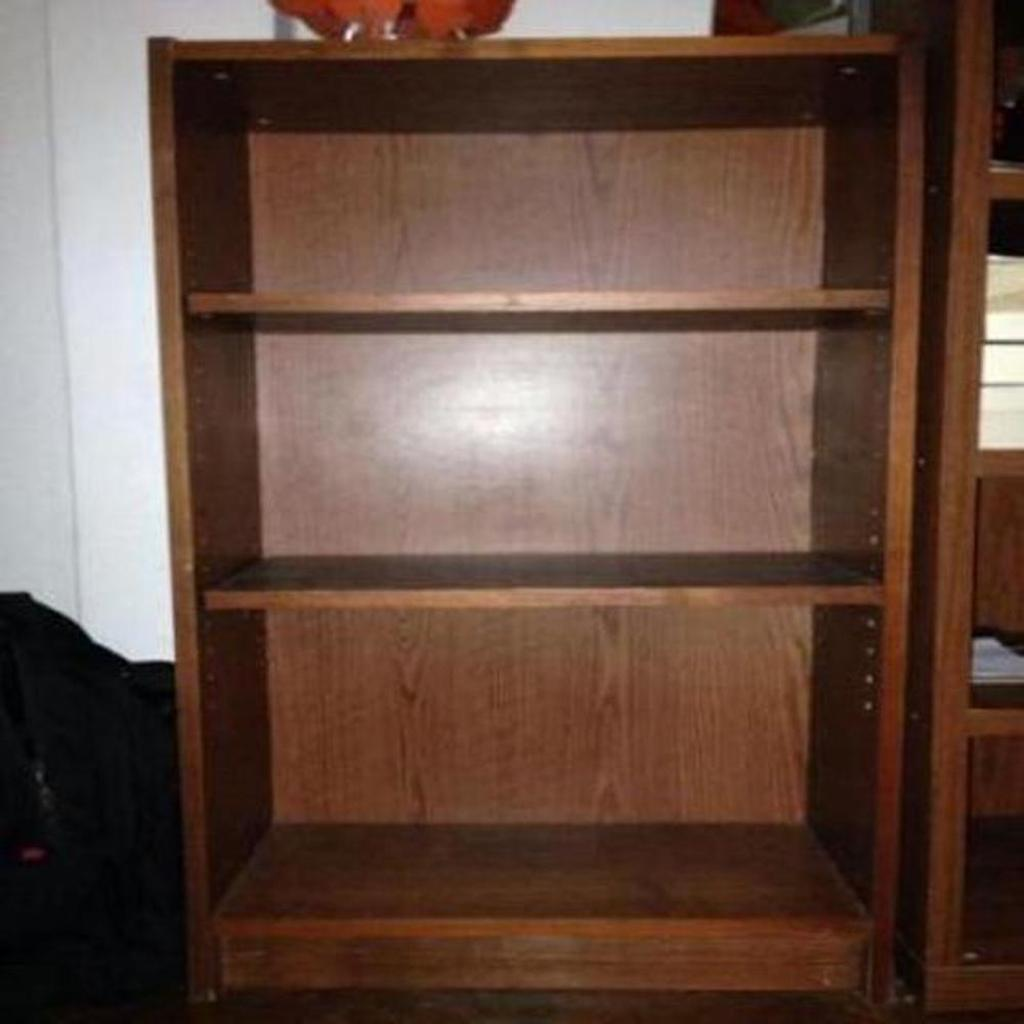lamp: (143, 30, 935, 1023)
